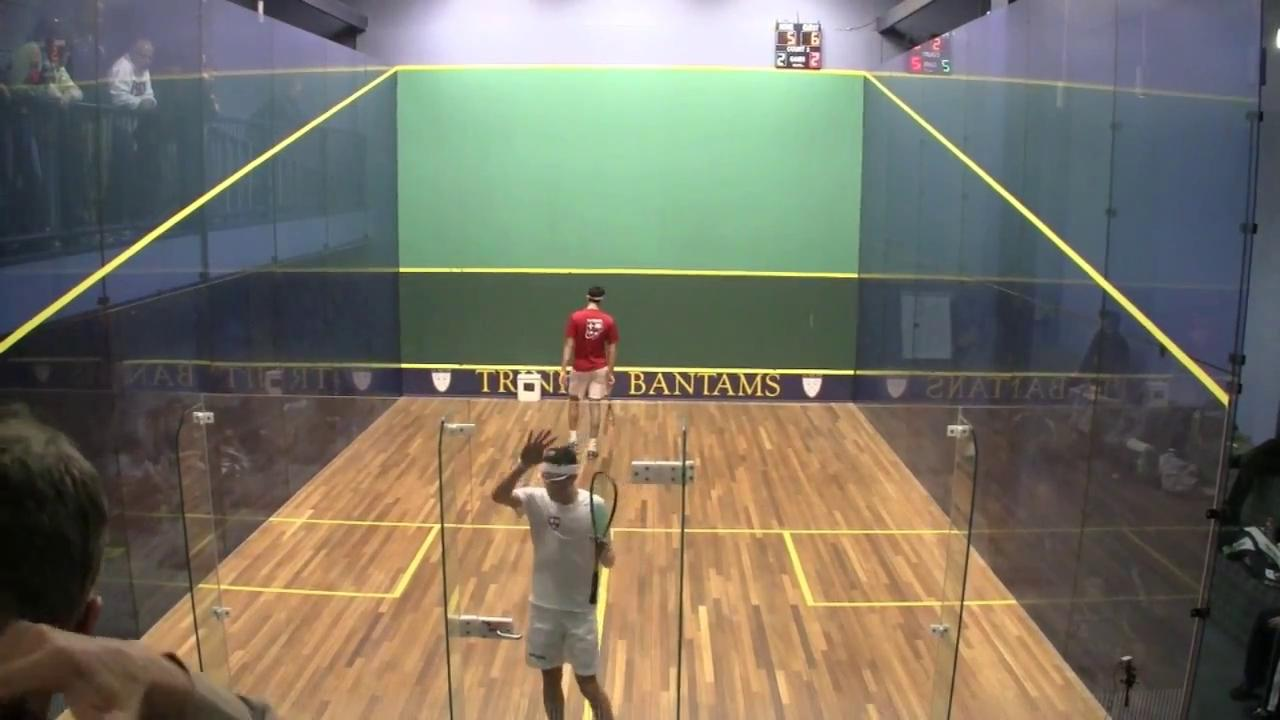victim: (489, 412, 639, 718), (548, 277, 624, 466)
